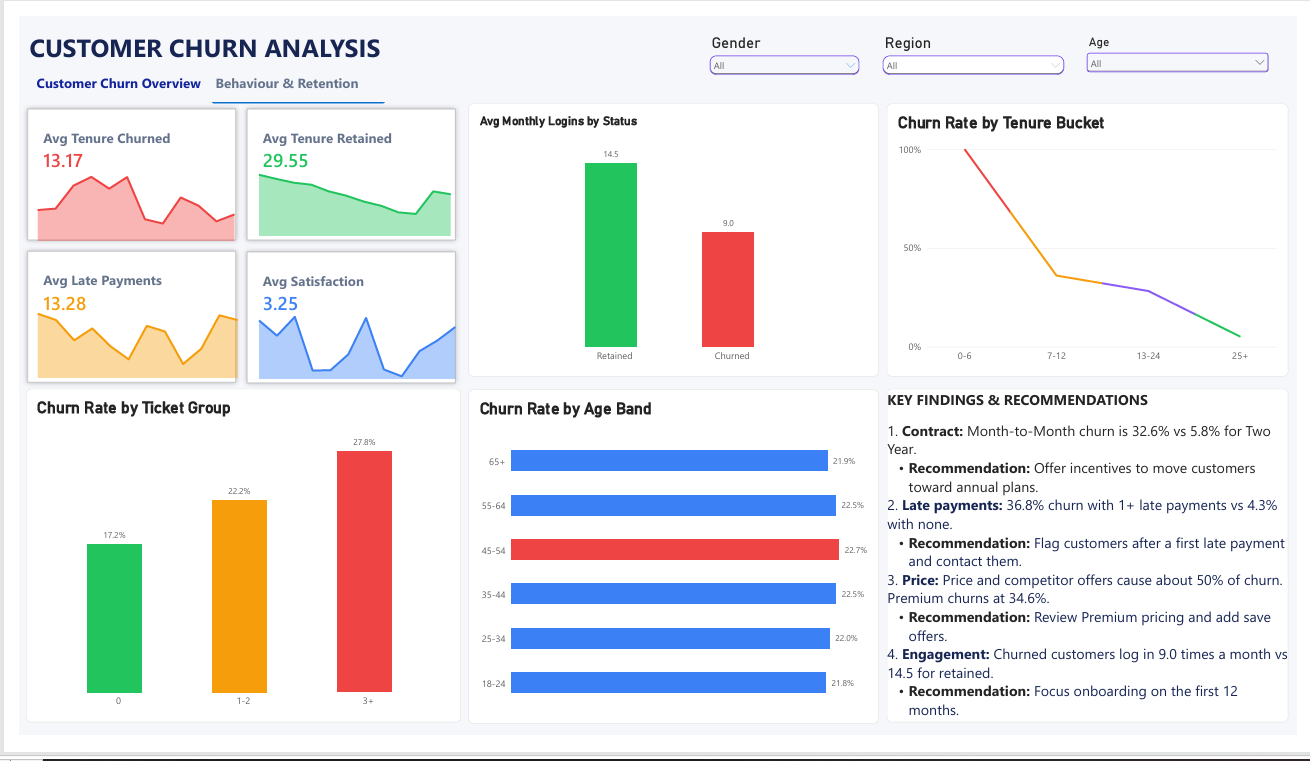

This screenshot's page, from the dashboard's own definition file:
{"tool":"powerbi","page":{"name":"Behaviour & Retention","canvas":[1920,1080],"ordinal":1},"visuals":[{"type":"shape","box":[332.7,130,330,214.3],"z":0,"group":"g2"},{"type":"shape","box":[2.9,343.6,330,214.3],"z":0,"group":"g1"},{"type":"shape","box":[332.9,344.8,330,214.3],"z":0,"group":"g3"},{"type":"clusteredColumnChart","title":"Churn Rate by Ticket Group","fields":{"Category":["churn_db churn_analysis.Ticket Group"],"Y":["churn_db churn_analysis.Churn Rate %"]},"box":[8.6,558.6,654.3,502.9],"z":0},{"type":"shape","box":[2.9,130,330,214.3],"z":1000},{"type":"cardVisual","fields":{"Data":["churn_db churn_analysis.Avg Tenure Retained"]},"box":[348.7,152.6,299.4,169],"z":1000,"group":"g2"},{"type":"cardVisual","fields":{"Data":["churn_db churn_analysis.Avg Monthly Logins"]},"box":[18.9,366.2,299.4,169],"z":1000,"group":"g1"},{"type":"cardVisual","fields":{"Data":["churn_db churn_analysis.Avg Satisfaction"]},"box":[348.9,367.4,299.4,169],"z":1000,"group":"g3"},{"type":"clusteredColumnChart","title":"Avg Monthly Logins by Status","fields":{"Category":["churn_db churn_analysis.Status"],"Y":["churn_db churn_analysis.Avg Monthly Logins"]},"box":[674.3,130,617.1,411.4],"z":2000},{"type":"clusteredBarChart","title":"Churn Rate by Age Band","fields":{"Category":["churn_db churn_analysis.Age Band"],"Y":["churn_db churn_analysis.Churn Rate %"]},"box":[674.3,560,617.1,502.9],"z":3000},{"type":"cardVisual","fields":{"Data":["churn_db churn_analysis.Avg Tenure Churned"]},"box":[18.8,152.6,299.4,169],"z":4000},{"type":"lineChart","title":"Churn Rate by Tenure Bucket","fields":{"Category":["churn_db churn_analysis.Tenure Bucket"],"Y":["churn_db churn_analysis.Churn Rate %"]},"box":[1302.9,130,604.3,411.4],"z":5000},{"type":"slicer","title":"Gender","fields":{"Values":["churn_db churn_analysis.gender"]},"box":[1031.7,25,235,90],"z":6000},{"type":"group","id":"g1","title":"Group 2","box":[2.9,343.6,329.9,215],"z":7000},{"type":"slicer","fields":{"Values":["churn_db churn_analysis.region"]},"box":[1291.7,25,283.3,86.7],"z":8000},{"type":"group","id":"g2","title":"Group 2","box":[332.7,130,329.9,215],"z":9000},{"type":"textbox","box":[14.3,20,535.7,60],"z":10000},{"type":"pageNavigator","box":[18.6,68.6,531.4,61.4],"z":11000},{"type":"slicer","title":"AGE","fields":{"Values":["churn_db churn_analysis.Age Band"]},"box":[1598.9,26.3,283.2,89.6],"z":12000},{"type":"group","id":"g3","title":"Group 2","box":[332.9,344.8,330,213.8],"z":13000},{"type":"textbox","box":[1302.9,558.6,604.3,502.9],"z":14000},{"type":"stackedAreaChart","fields":{"Category":["churn_db churn_analysis.SIGNUP MONTH.Variation.Date Hierarchy.Month"],"Y":["churn_db churn_analysis.Avg Tenure Retained"]},"box":[333.2,177.8,341.1,166],"z":15000},{"type":"stackedAreaChart","fields":{"Category":["churn_db churn_analysis.SIGNUP MONTH.Variation.Date Hierarchy.Month"],"Y":["churn_db churn_analysis.Avg Satisfaction"]},"box":[333.2,420.1,347.7,139.6],"z":16000},{"type":"stackedAreaChart","fields":{"Category":["churn_db churn_analysis.SIGNUP MONTH.Variation.Date Hierarchy.Month"],"Y":["churn_db churn_analysis.Avg Late Payments"]},"box":[0,420.1,354.3,138.3],"z":17000},{"type":"stackedAreaChart","fields":{"Y":["churn_db churn_analysis.Avg Tenure Churned"],"Category":["churn_db churn_analysis.CHURN MONTH.Variation.Date Hierarchy.Month"]},"box":[0,213,349,139],"z":18000}]}

Visuals, with their boxes on the page's 1920x1080 design canvas (x1, y1, x2, y2). These are canvas units, not pixel positions in the 1310x761 screenshot, which may show the page scaled, cropped or inside an application window:
shape: {"left": 333, "top": 130, "right": 663, "bottom": 344}
shape: {"left": 3, "top": 344, "right": 333, "bottom": 558}
shape: {"left": 333, "top": 345, "right": 663, "bottom": 559}
"Churn Rate by Ticket Group" clusteredColumnChart: {"left": 9, "top": 559, "right": 663, "bottom": 1062}
shape: {"left": 3, "top": 130, "right": 333, "bottom": 344}
cardVisual - churn_db churn_analysis.Avg Tenure Retained: {"left": 349, "top": 153, "right": 648, "bottom": 322}
cardVisual - churn_db churn_analysis.Avg Monthly Logins: {"left": 19, "top": 366, "right": 318, "bottom": 535}
cardVisual - churn_db churn_analysis.Avg Satisfaction: {"left": 349, "top": 367, "right": 648, "bottom": 536}
"Avg Monthly Logins by Status" clusteredColumnChart: {"left": 674, "top": 130, "right": 1291, "bottom": 541}
"Churn Rate by Age Band" clusteredBarChart: {"left": 674, "top": 560, "right": 1291, "bottom": 1063}
cardVisual - churn_db churn_analysis.Avg Tenure Churned: {"left": 19, "top": 153, "right": 318, "bottom": 322}
"Churn Rate by Tenure Bucket" lineChart: {"left": 1303, "top": 130, "right": 1907, "bottom": 541}
"Gender" slicer: {"left": 1032, "top": 25, "right": 1267, "bottom": 115}
"Group 2" group: {"left": 3, "top": 344, "right": 333, "bottom": 559}
slicer - churn_db churn_analysis.region: {"left": 1292, "top": 25, "right": 1575, "bottom": 112}
"Group 2" group: {"left": 333, "top": 130, "right": 663, "bottom": 345}
textbox: {"left": 14, "top": 20, "right": 550, "bottom": 80}
pageNavigator: {"left": 19, "top": 69, "right": 550, "bottom": 130}
"AGE" slicer: {"left": 1599, "top": 26, "right": 1882, "bottom": 116}
"Group 2" group: {"left": 333, "top": 345, "right": 663, "bottom": 559}
textbox: {"left": 1303, "top": 559, "right": 1907, "bottom": 1062}
stackedAreaChart - churn_db churn_analysis.SIGNUP MONTH.Variation.Date Hierarchy.Month x churn_db churn_analysis.Avg Tenure Retained: {"left": 333, "top": 178, "right": 674, "bottom": 344}
stackedAreaChart - churn_db churn_analysis.SIGNUP MONTH.Variation.Date Hierarchy.Month x churn_db churn_analysis.Avg Satisfaction: {"left": 333, "top": 420, "right": 681, "bottom": 560}
stackedAreaChart - churn_db churn_analysis.SIGNUP MONTH.Variation.Date Hierarchy.Month x churn_db churn_analysis.Avg Late Payments: {"left": 0, "top": 420, "right": 354, "bottom": 558}
stackedAreaChart - churn_db churn_analysis.Avg Tenure Churned x churn_db churn_analysis.CHURN MONTH.Variation.Date Hierarchy.Month: {"left": 0, "top": 213, "right": 349, "bottom": 352}
